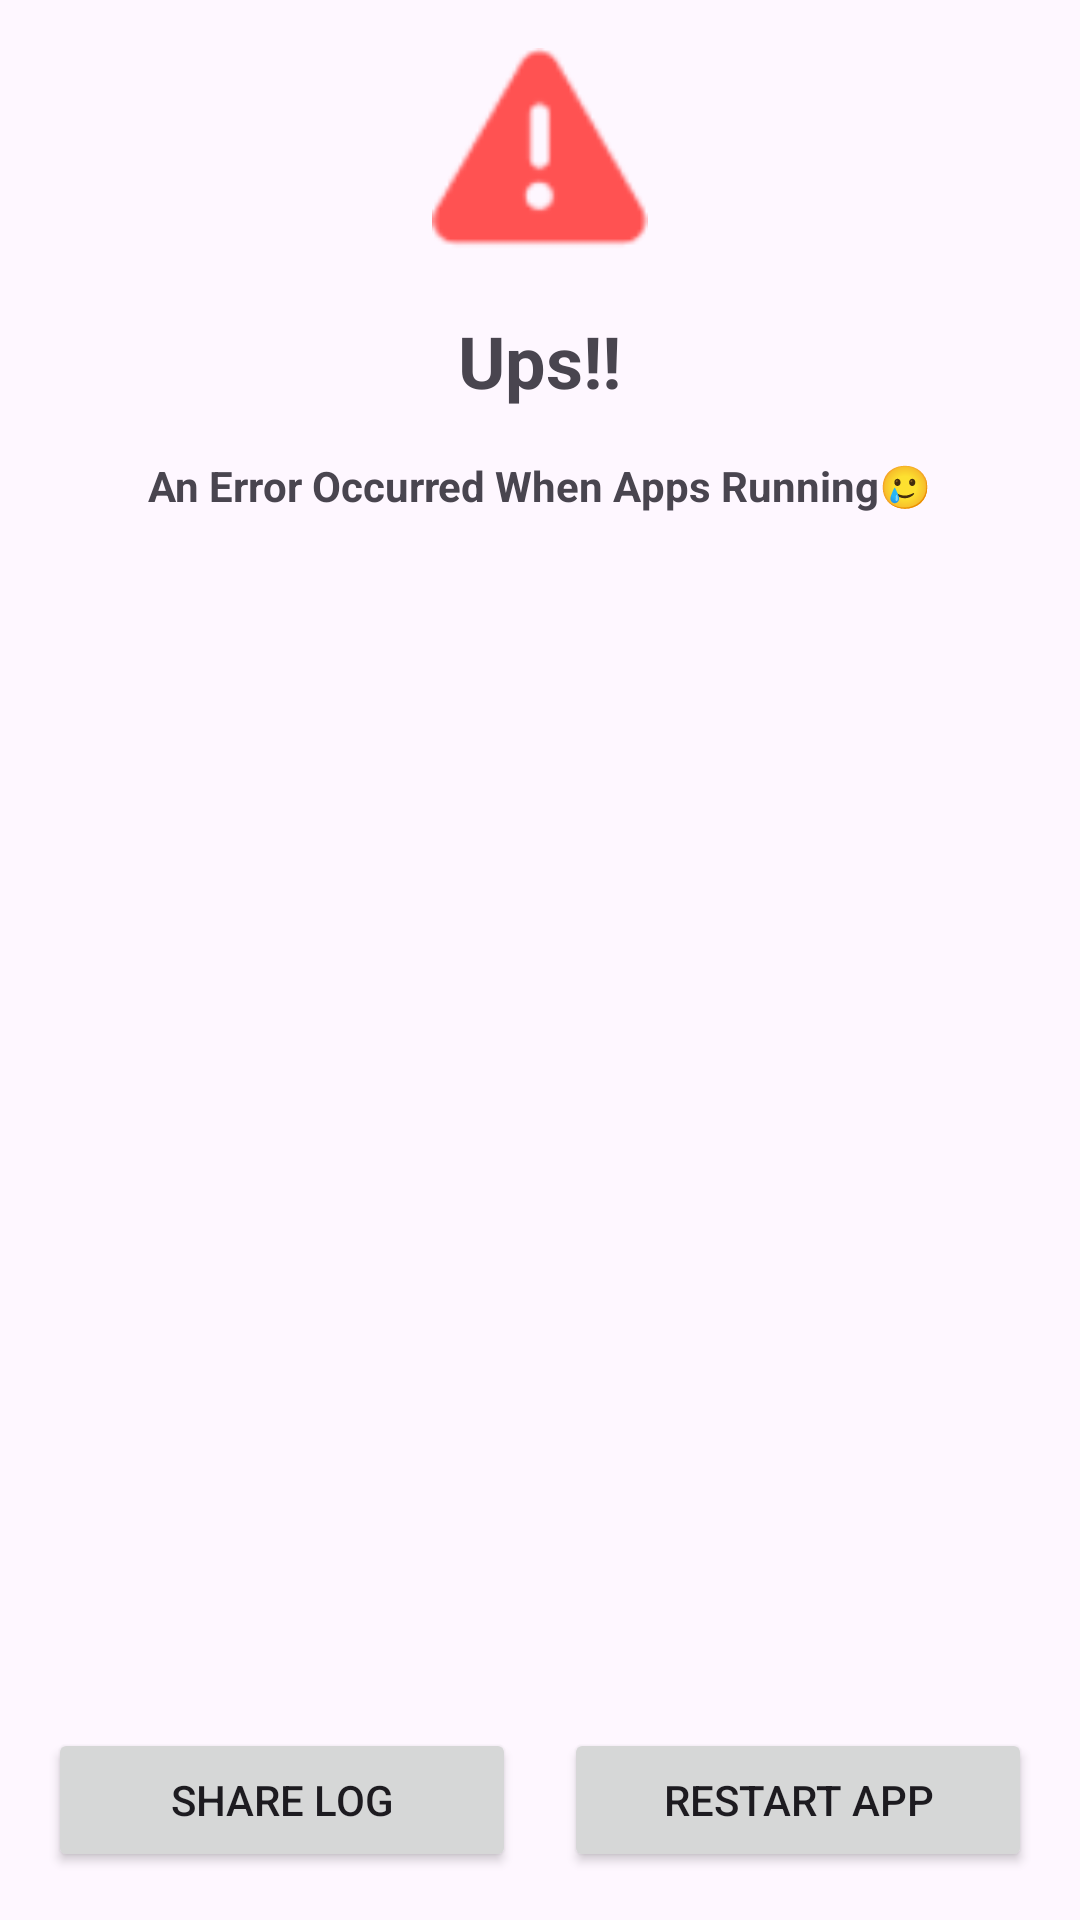

Where icons sit on this 1080*1920 app screen, as (x1, y1, x2, y2):
alert: (432, 48, 648, 245)
